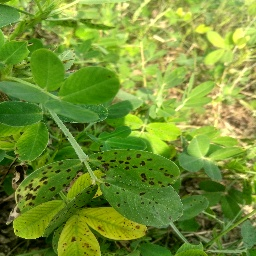GroundNut_Leaf: (17, 159, 81, 210), (89, 151, 179, 187), (105, 188, 183, 222), (59, 67, 119, 102), (57, 223, 97, 254), (32, 51, 59, 90), (1, 102, 43, 127), (15, 130, 46, 157), (186, 80, 215, 108), (62, 106, 108, 123), (1, 40, 29, 65), (14, 221, 55, 237), (184, 193, 208, 218), (145, 123, 182, 138), (187, 135, 208, 156)
